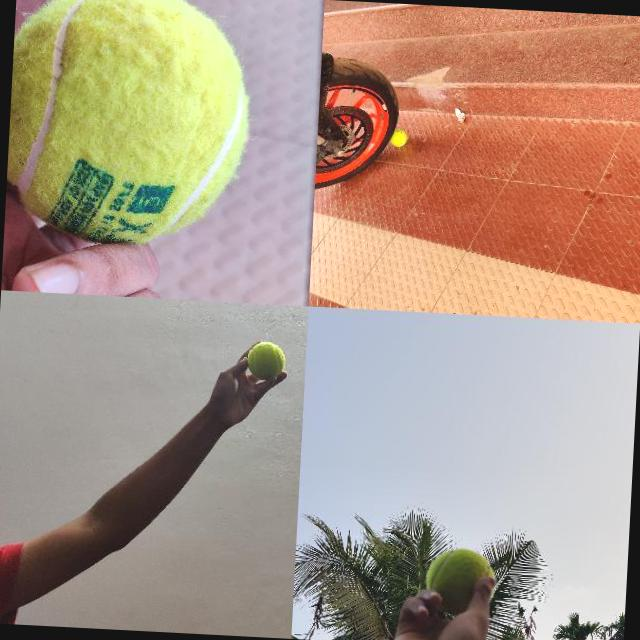Tennis Ball: (5, 0, 257, 253), (425, 547, 498, 616), (247, 340, 287, 380), (395, 130, 408, 148)
